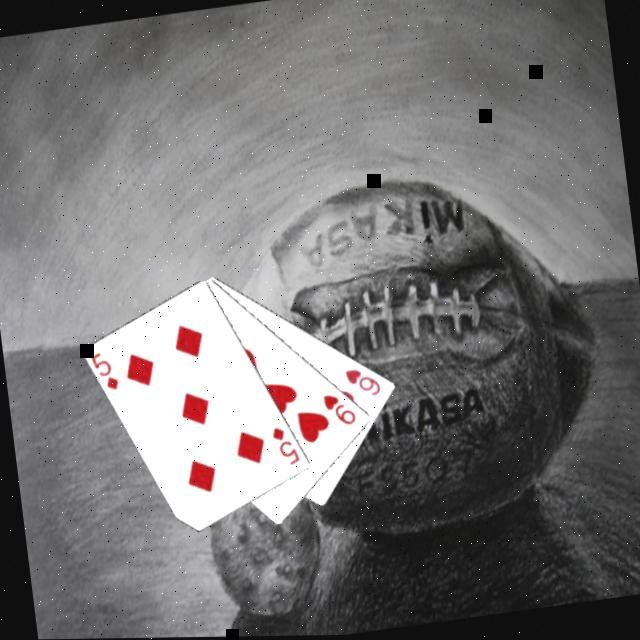5D: (266, 423, 302, 472), (85, 349, 121, 398)
6H: (339, 364, 383, 406)
9H: (318, 390, 359, 434)
